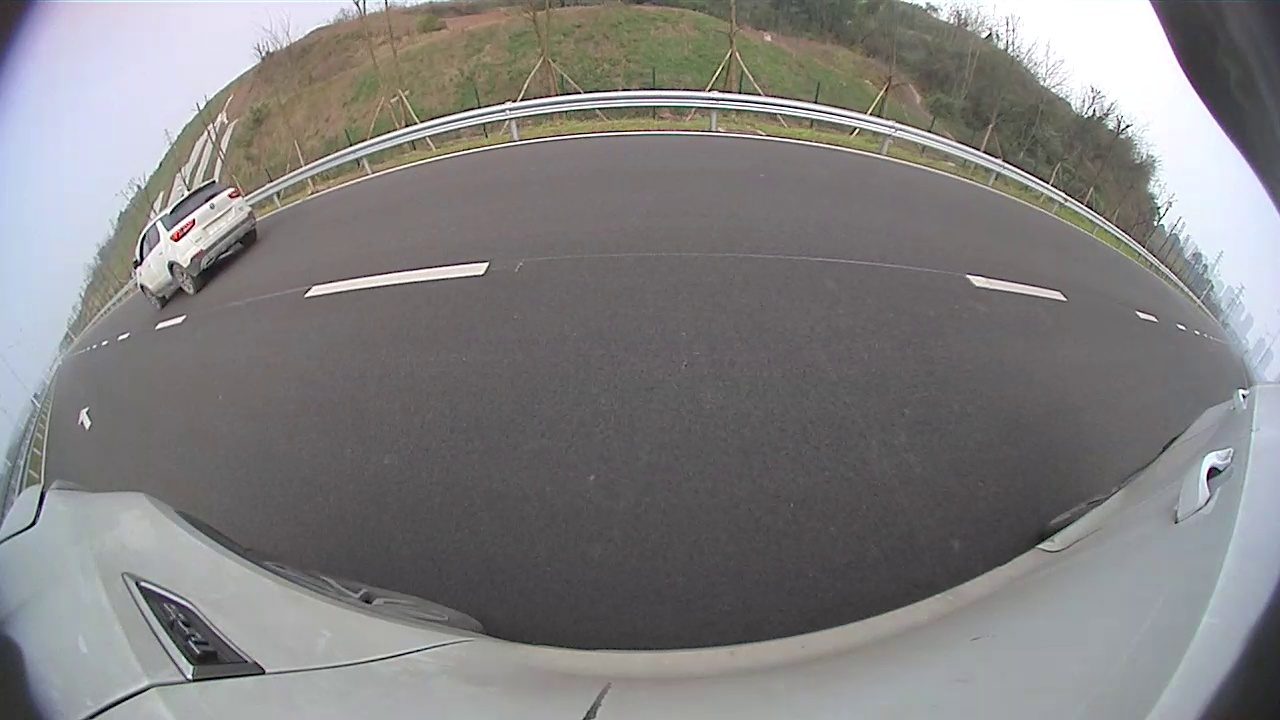car: (132, 179, 258, 310)
rear: (170, 263, 198, 297)
